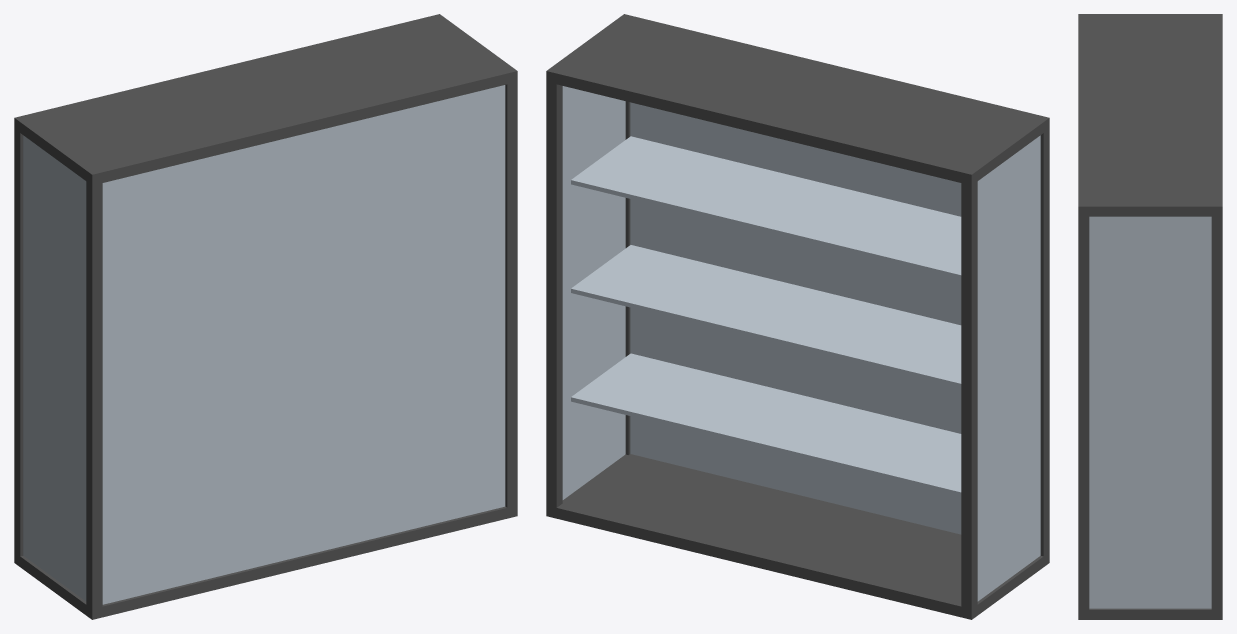
The model's file is etalase1.glb.
The picture shows the model from 3 angles, left to right: view 1: azimuth 30°, elevation 25°; view 2: azimuth 150°, elevation 25°; view 3: azimuth 270°, elevation 25°; orthographic projection. The views are drawn at different scales.
Parts seen in each view (by area): view 1: Pintu_Depan, Atap_Atas, Kaca_Kiri, Tiang_4, Alas_Bawah, Tiang_2, Tiang_3; view 2: Pintu_Depan, Atap_Atas, Alas_Bawah, Kaca_Kiri, Rak_Kaca_1, Rak_Kaca_3, Rak_Kaca_2, Kaca_Kanan, Tiang_3, Tiang_1, Tiang_4, Tiang_2; view 3: Kaca_Kanan, Atap_Atas, Tiang_2, Tiang_1, Alas_Bawah.
Boxes of the visible parts, box(x1,y1,x2,y2) form: Pintu_Depan: box(102, 85, 505, 604); Atap_Atas: box(14, 14, 517, 185); Kaca_Kiri: box(23, 135, 86, 601); Tiang_4: box(86, 176, 102, 614); Alas_Bawah: box(14, 506, 517, 619); Tiang_2: box(505, 76, 517, 511); Tiang_3: box(14, 123, 23, 561); Pintu_Depan: box(630, 102, 961, 534); Atap_Atas: box(546, 14, 1049, 185); Alas_Bawah: box(546, 454, 1049, 619); Kaca_Kiri: box(977, 135, 1040, 601); Rak_Kaca_1: box(571, 353, 961, 496); Rak_Kaca_3: box(571, 136, 961, 279); Rak_Kaca_2: box(571, 245, 961, 387); Kaca_Kanan: box(562, 86, 625, 499); Tiang_3: box(961, 176, 977, 614); Tiang_1: box(546, 76, 562, 512); Tiang_4: box(1040, 124, 1049, 561); Tiang_2: box(625, 101, 630, 454); Kaca_Kanan: box(1089, 216, 1211, 608); Atap_Atas: box(1078, 14, 1222, 216); Tiang_2: box(1078, 211, 1089, 614); Tiang_1: box(1211, 211, 1222, 614); Alas_Bawah: box(1078, 608, 1222, 619).
Bounding box in the file's own units: 2.05 × 2.05 × 0.65.
